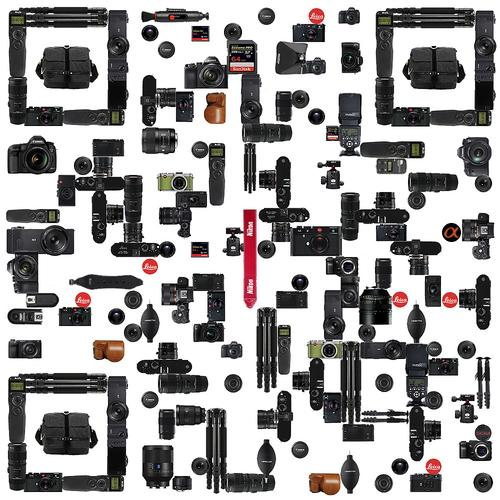QRCode: (4, 6, 500, 500)
